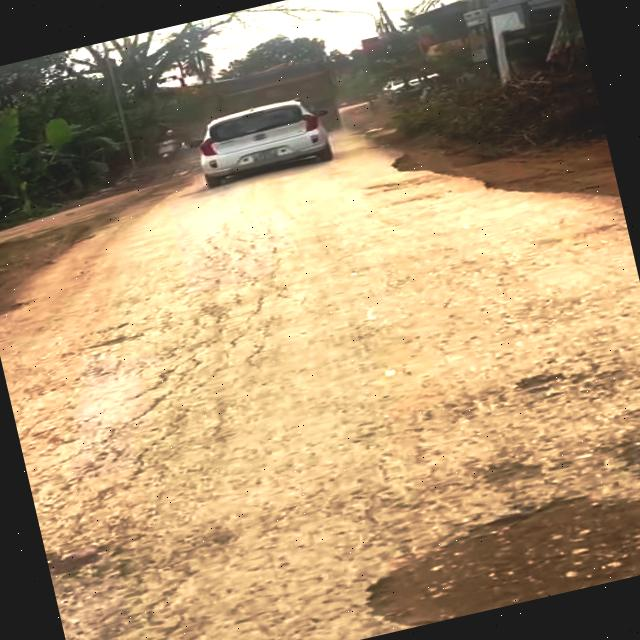pothole: (349, 466, 640, 636)
